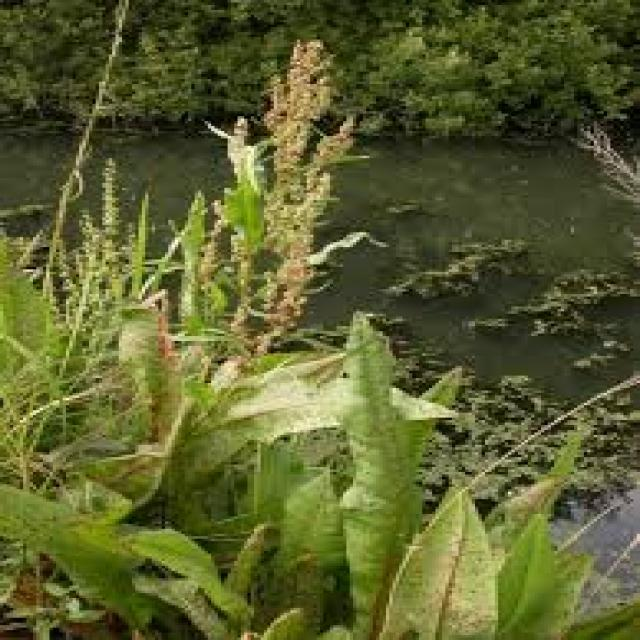organic waste: (69, 356, 620, 640)
